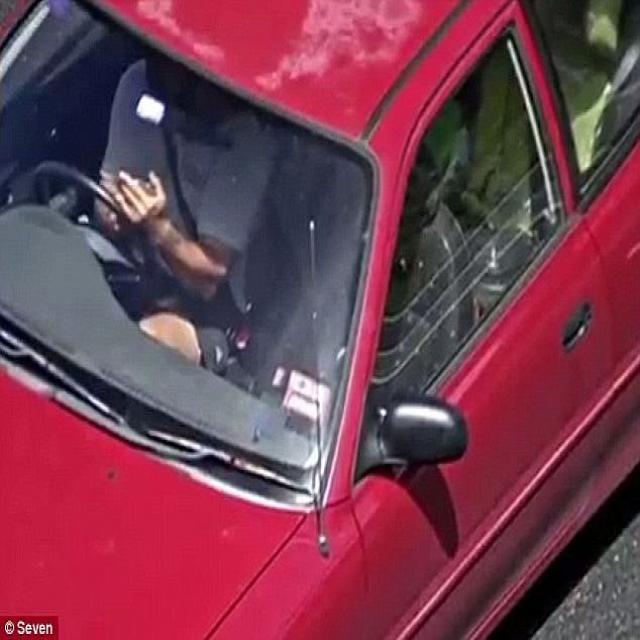seatbelt: (141, 67, 211, 267)
